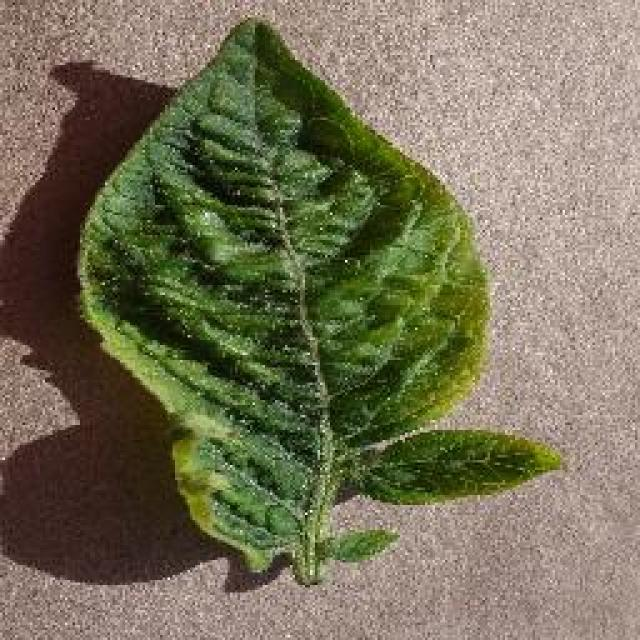Tom_Yellow_Leaf_Curl_Virus: (101, 70, 529, 545)
